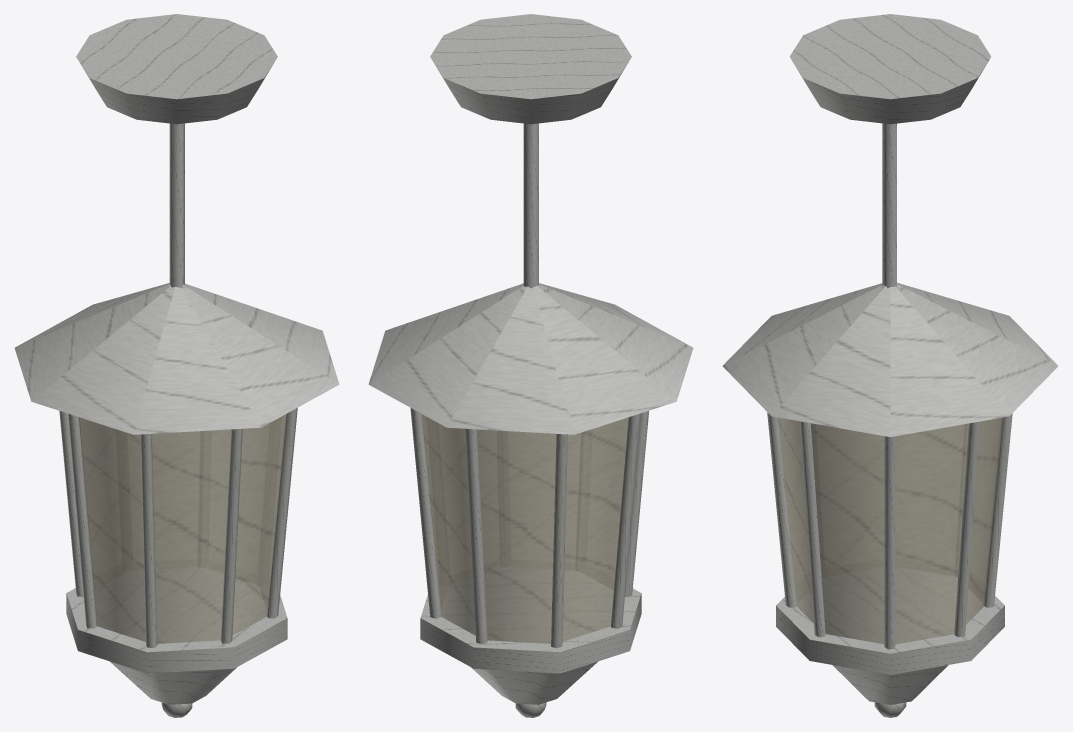
Rendered from pencil-corridor-pendant.glb.
The picture shows the model from 3 angles, left to right: view 1: azimuth 30°, elevation 25°; view 2: azimuth 150°, elevation 25°; view 3: azimuth 270°, elevation 25°; orthographic projection.
Visible parts, largest first — view 1: Pencil_Frame, Glass_Panels; view 2: Pencil_Frame, Glass_Panels; view 3: Pencil_Frame, Glass_Panels.
Part boxes in pixels (x1,y1,x2,y2): Pencil_Frame: [14, 14, 339, 717]; Glass_Panels: [79, 414, 286, 643]; Pencil_Frame: [368, 14, 693, 717]; Glass_Panels: [421, 414, 628, 643]; Pencil_Frame: [722, 14, 1058, 717]; Glass_Panels: [778, 417, 1003, 644].
Size of what is drawn, in the model's own units: 0.5 by 1.08 by 0.5.
Materials: 2 (2 with a texture image).
